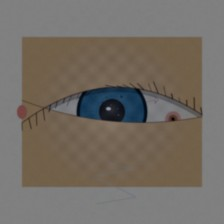foreign_body_visible: (162, 111, 184, 128)
